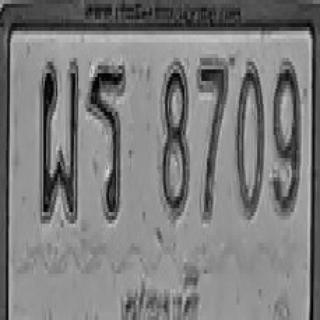A28: (39, 58, 78, 220)
A35: (87, 64, 125, 218)
N00: (235, 60, 264, 218)
N07: (197, 60, 228, 218)
N08: (161, 64, 189, 218)
N09: (272, 60, 300, 214)
